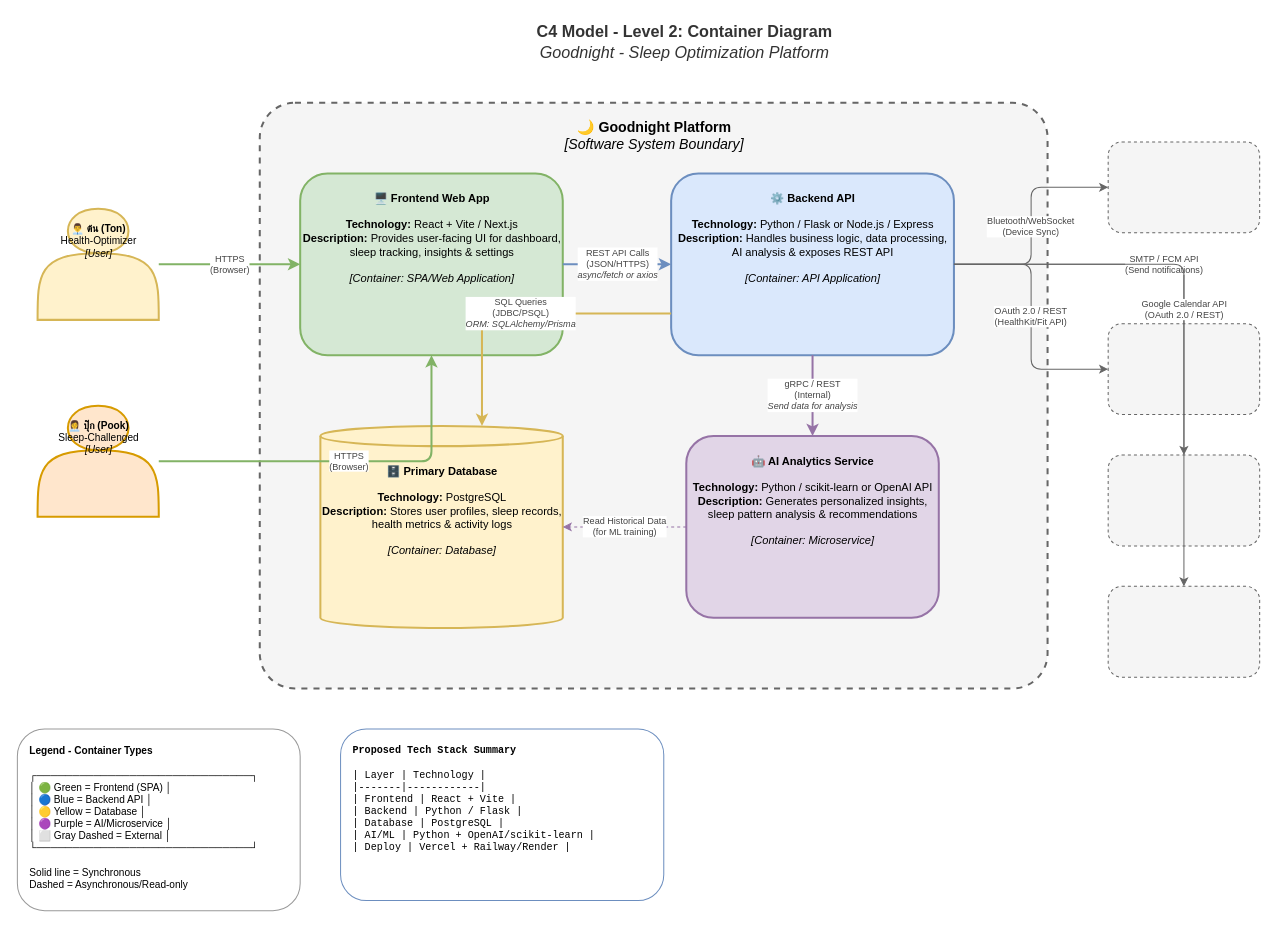
Some shapes in this 1278 by 929 pixel diagram are drawn without their labels. The shapes that lost their labels are listed below. From the top down, each one's box as (x1, y1, x2, y2) in pixels, then its label:
(1107, 141, 1260, 233): ⌚ Wearables Apple Watch/Garmin [External]
(1107, 323, 1260, 415): 🏥 Health API Apple Health/Fit [External]
(1107, 454, 1260, 546): 📧 Notifications Email/Push Service [External]
(1107, 585, 1260, 677): 📅 Calendar Google Calendar [External]
